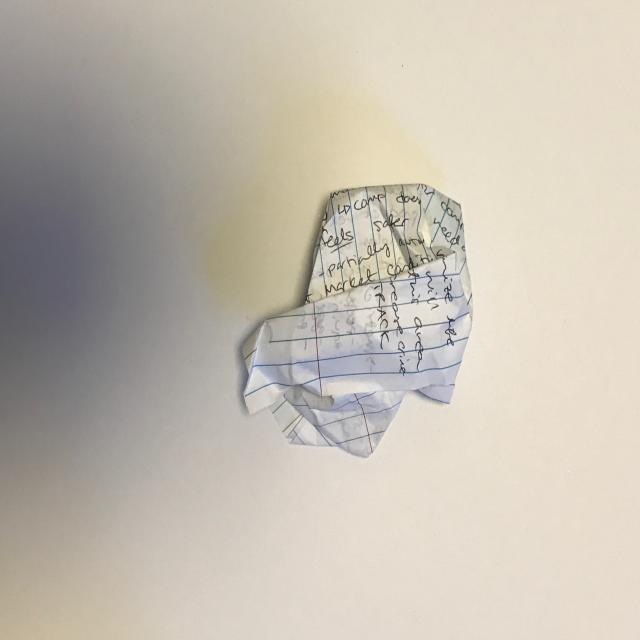paper: (242, 182, 474, 458)
